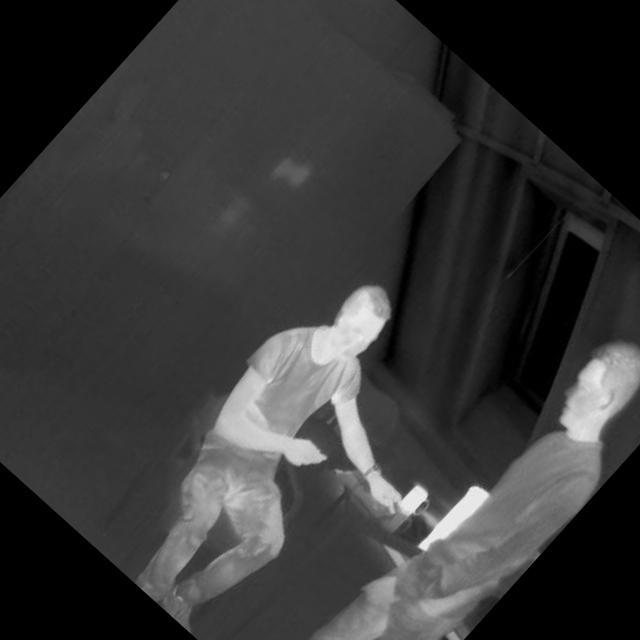person: (84, 250, 491, 640), (245, 279, 640, 640)
